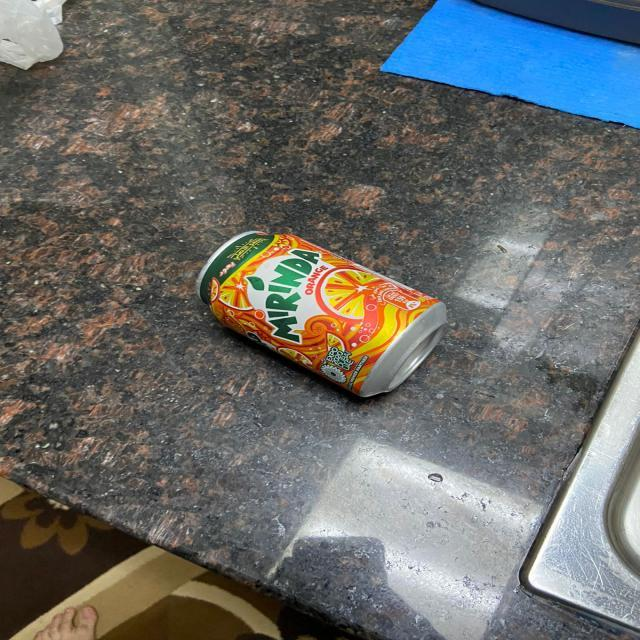can: (191, 225, 452, 404)
